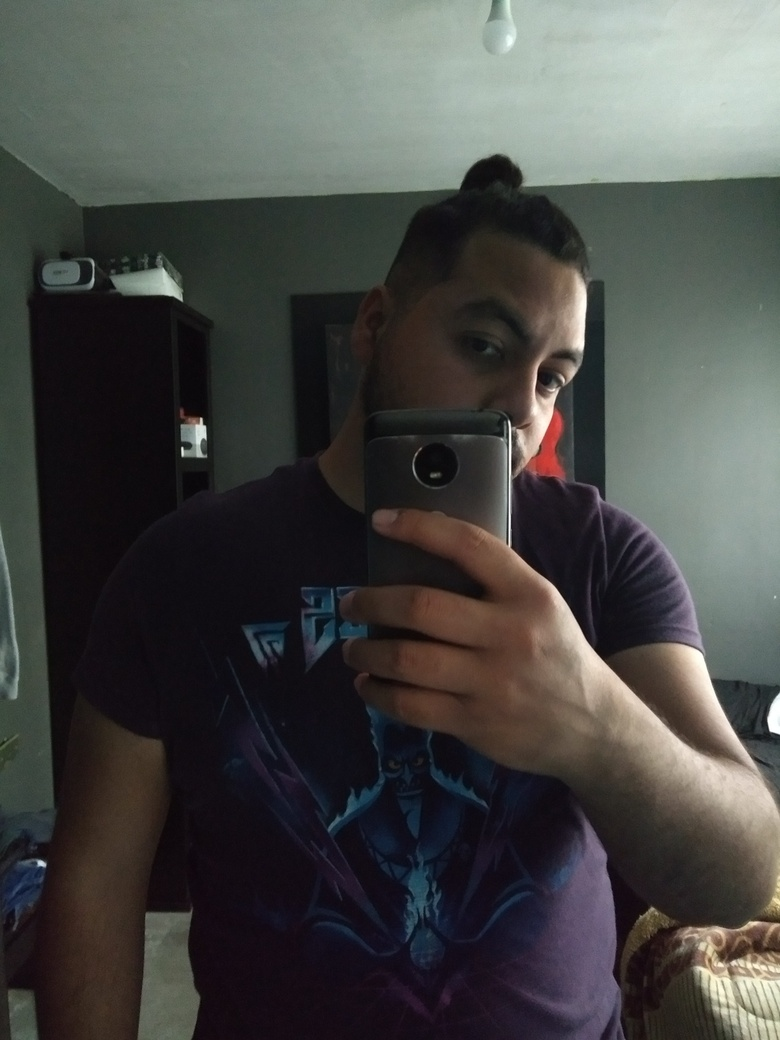Yoshi: (339, 130, 646, 493)
